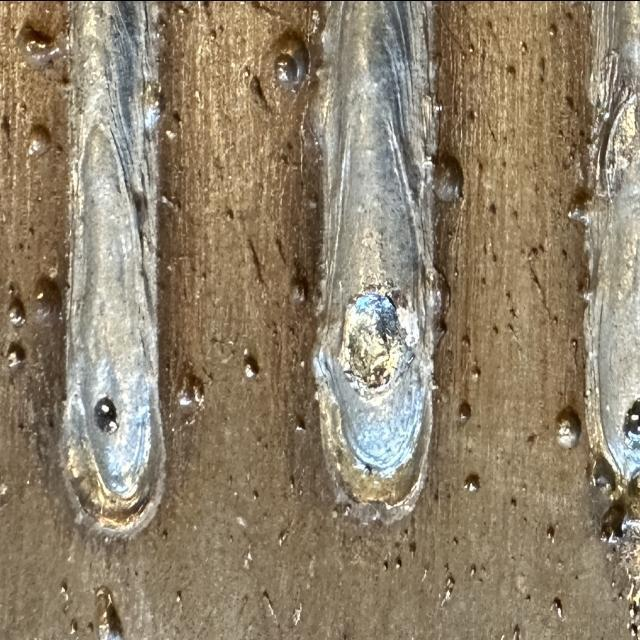Excess Reinforcement: (600, 472, 640, 543), (304, 65, 330, 150), (425, 267, 450, 347), (311, 322, 329, 395), (142, 78, 164, 128), (591, 455, 616, 490), (568, 187, 590, 225)
Spatters: (16, 23, 68, 68), (272, 33, 308, 90), (31, 275, 61, 325), (95, 585, 122, 640), (432, 155, 463, 202), (176, 362, 204, 412), (528, 258, 550, 318), (556, 405, 581, 448), (289, 265, 309, 307), (246, 238, 263, 283), (249, 75, 269, 112), (28, 123, 50, 155), (628, 597, 640, 640), (6, 342, 25, 368), (9, 297, 25, 327), (262, 590, 277, 622), (441, 575, 455, 605), (244, 351, 259, 377), (274, 235, 286, 263), (464, 473, 480, 492), (0, 113, 10, 140), (459, 400, 471, 422), (552, 597, 564, 618), (359, 460, 371, 477), (60, 580, 69, 602), (532, 243, 543, 257), (471, 363, 480, 380), (278, 530, 288, 545), (16, 100, 26, 115), (546, 525, 554, 542), (309, 193, 318, 208), (549, 23, 558, 37), (466, 108, 475, 122), (461, 333, 469, 348), (513, 623, 520, 640), (610, 578, 617, 595), (85, 620, 94, 633), (446, 575, 455, 587), (225, 208, 234, 220), (549, 23, 558, 35), (409, 542, 416, 557), (520, 40, 528, 53), (289, 475, 295, 492), (506, 65, 516, 75), (166, 128, 176, 138), (8, 282, 15, 295), (295, 423, 305, 432), (71, 618, 77, 633), (242, 67, 250, 78), (344, 503, 351, 515), (434, 102, 442, 112), (181, 1, 192, 8), (489, 202, 496, 213), (508, 322, 515, 333), (470, 563, 476, 575), (382, 560, 388, 572), (561, 248, 568, 258), (161, 528, 168, 538), (194, 90, 201, 100), (510, 307, 517, 317), (452, 535, 459, 545), (395, 557, 401, 568), (252, 491, 259, 500), (176, 590, 181, 602), (468, 43, 474, 53), (492, 323, 498, 333), (505, 290, 511, 300), (491, 252, 497, 262), (571, 337, 577, 347), (565, 12, 572, 20), (521, 483, 527, 492), (454, 267, 459, 277), (481, 275, 486, 285), (444, 562, 449, 572), (18, 242, 24, 250), (618, 592, 624, 600), (552, 315, 558, 323), (511, 498, 516, 507), (525, 593, 531, 600), (448, 230, 453, 238), (64, 603, 68, 612), (514, 210, 518, 217), (34, 197, 41, 201), (461, 52, 465, 58)
